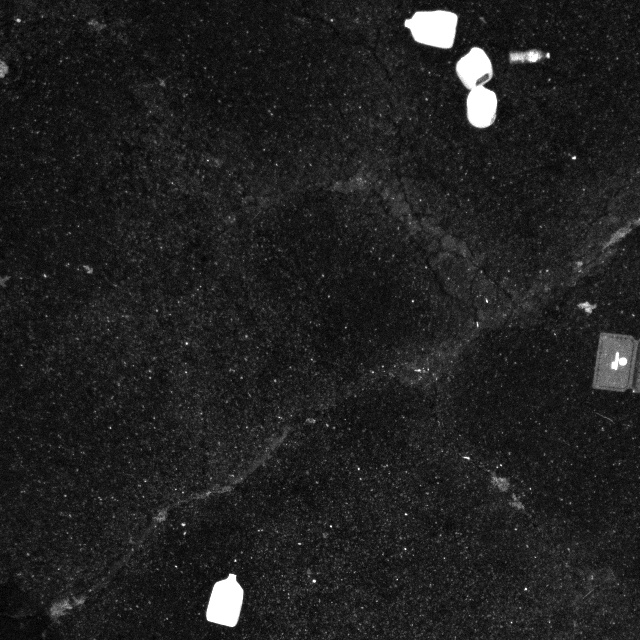bottle: (500, 39, 562, 72)
can: (190, 560, 253, 631), (442, 42, 505, 95), (452, 83, 509, 133)
container: (581, 321, 640, 402)
